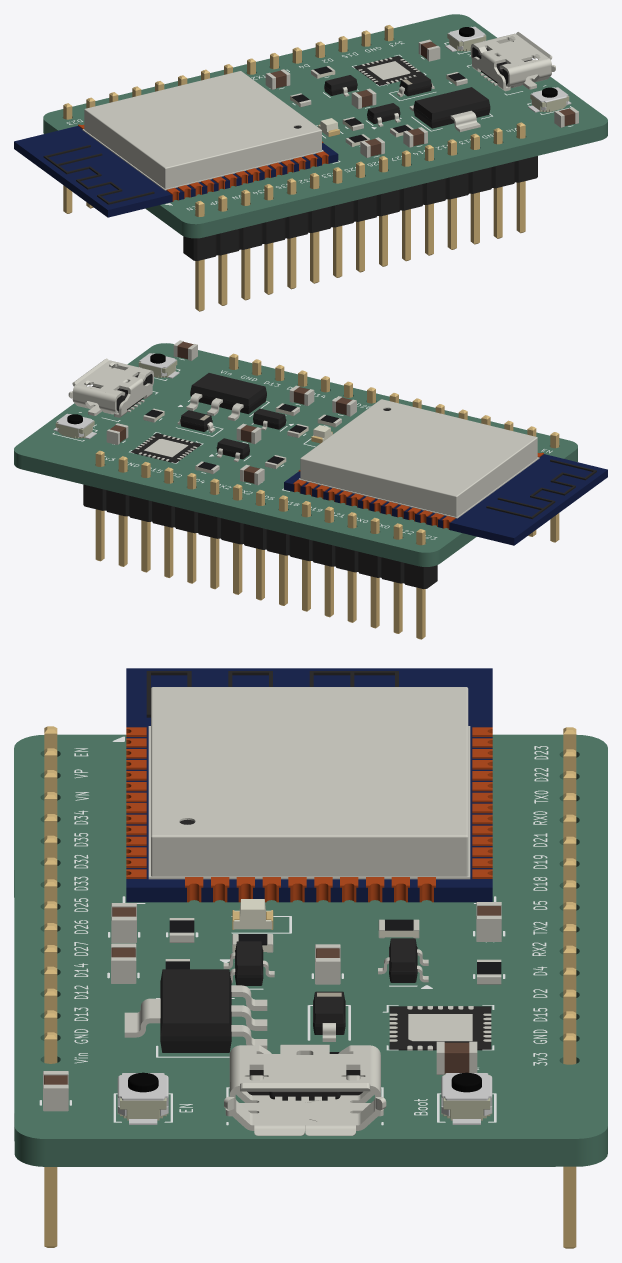
File: esp32-devkit-v1-30pin.glb
The picture shows the model from 3 angles, top to bottom: view 1: azimuth 30°, elevation 25°; view 2: azimuth 150°, elevation 25°; view 3: azimuth 270°, elevation 25°; orthographic projection. The views are drawn at different scales.
Visible parts, largest first — view 1: =>[0:1:1:14], U1, J3, J1, U2, J2, U3, =>[0:1:1:13], SW2, SW1, D1, Q2 (+6 smaller); view 2: =>[0:1:1:14], U1, J2, J1, U2, J3, U3, =>[0:1:1:13], SW1, SW2, D1, Q1 (+5 smaller); view 3: =>[0:1:1:14], U1, J1, U2, J2, J3, =>[0:1:1:13], U3, SW1, SW2, Q1, Q2 (+9 smaller).
Part boxes in pixels (<box>): =>[0:1:1:14]: <box>43,14,607,238</box>; U1: <box>14,71,338,217</box>; J3: <box>183,122,537,311</box>; J1: <box>470,32,555,91</box>; U2: <box>409,87,490,131</box>; J2: <box>63,25,393,213</box>; U3: <box>354,55,424,85</box>; =>[0:1:1:13]: <box>66,41,573,210</box>; SW2: <box>528,87,571,112</box>; SW1: <box>445,26,486,51</box>; D1: <box>397,74,434,96</box>; Q2: <box>367,103,400,126</box>; =>[0:1:1:14]: <box>14,343,577,566</box>; U1: <box>284,399,607,545</box>; J2: <box>83,450,437,639</box>; J1: <box>68,358,153,417</box>; U2: <box>186,373,266,420</box>; J3: <box>229,353,559,542</box>; U3: <box>131,433,201,462</box>; =>[0:1:1:13]: <box>52,358,552,539</box>; SW1: <box>53,413,96,439</box>; SW2: <box>138,353,179,378</box>; D1: <box>177,410,215,432</box>; Q1: <box>216,438,249,461</box>; =>[0:1:1:14]: <box>14,734,607,1166</box>; U1: <box>126,668,492,902</box>; J1: <box>224,1044,386,1135</box>; U2: <box>124,969,267,1052</box>; J2: <box>563,727,576,1248</box>; J3: <box>44,726,57,1247</box>; =>[0:1:1:13]: <box>39,736,548,1125</box>; U3: <box>389,1006,491,1050</box>; SW1: <box>441,1072,492,1124</box>; SW2: <box>117,1072,168,1124</box>; Q1: <box>378,938,428,982</box>; Q2: <box>223,941,274,985</box>.
Size of the model in its own units: 0.0529 by 0.0133 by 0.0292.
